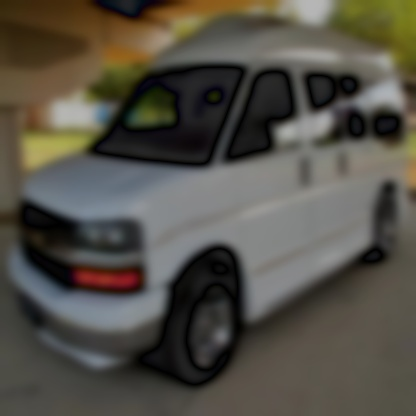Vehicle: (8, 16, 410, 384)
